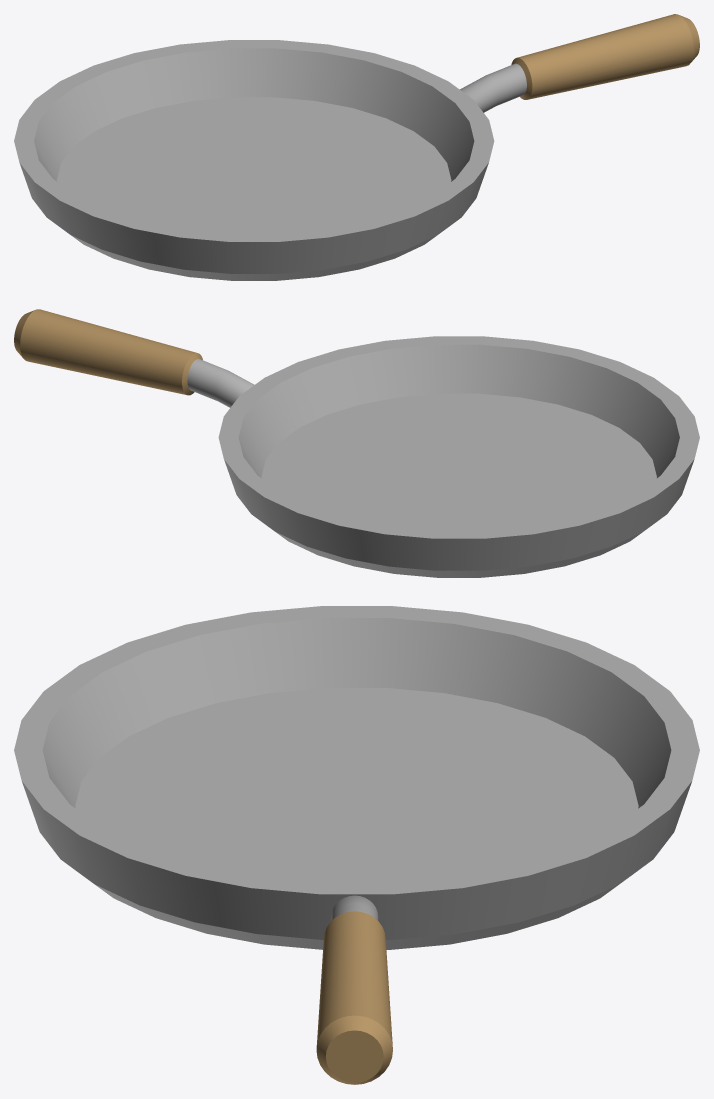
File: Pan.FBX
The picture shows the model from 3 angles, top to bottom: view 1: azimuth 30°, elevation 25°; view 2: azimuth 150°, elevation 25°; view 3: azimuth 270°, elevation 25°; orthographic projection. The views are drawn at different scales.
Parts seen in each view (by area): view 1: Pan; view 2: Pan; view 3: Pan.
Part boxes in pixels (x1,y1,x2,y2): Pan: (14, 14, 699, 280); Pan: (14, 309, 699, 577); Pan: (14, 606, 699, 1084).
Bounding box in the file's own units: 38.86 × 4.24 × 25.19.
